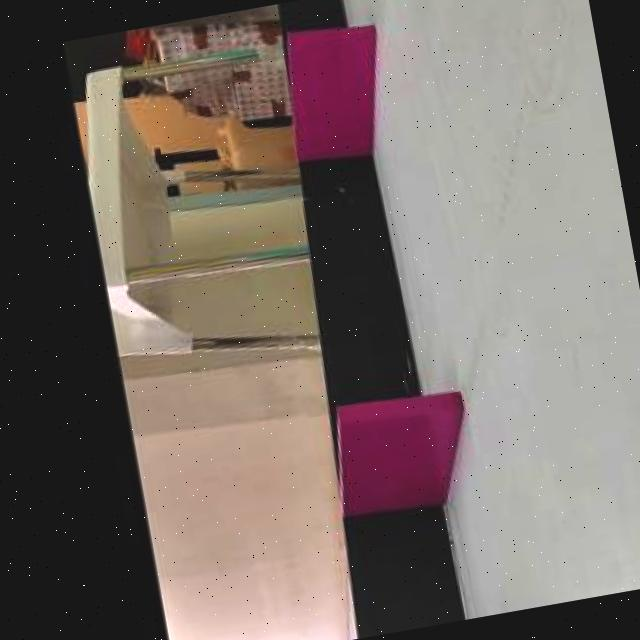xparking: (338, 388, 478, 510), (291, 25, 384, 152)
